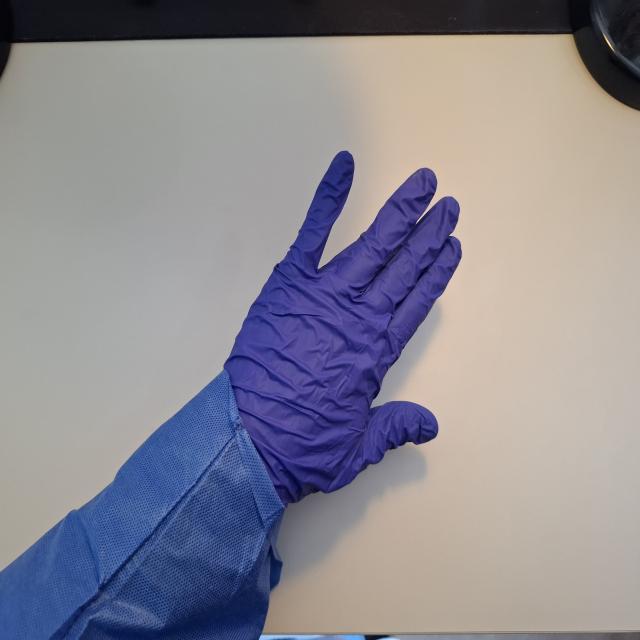glove_on: (221, 146, 464, 514)
